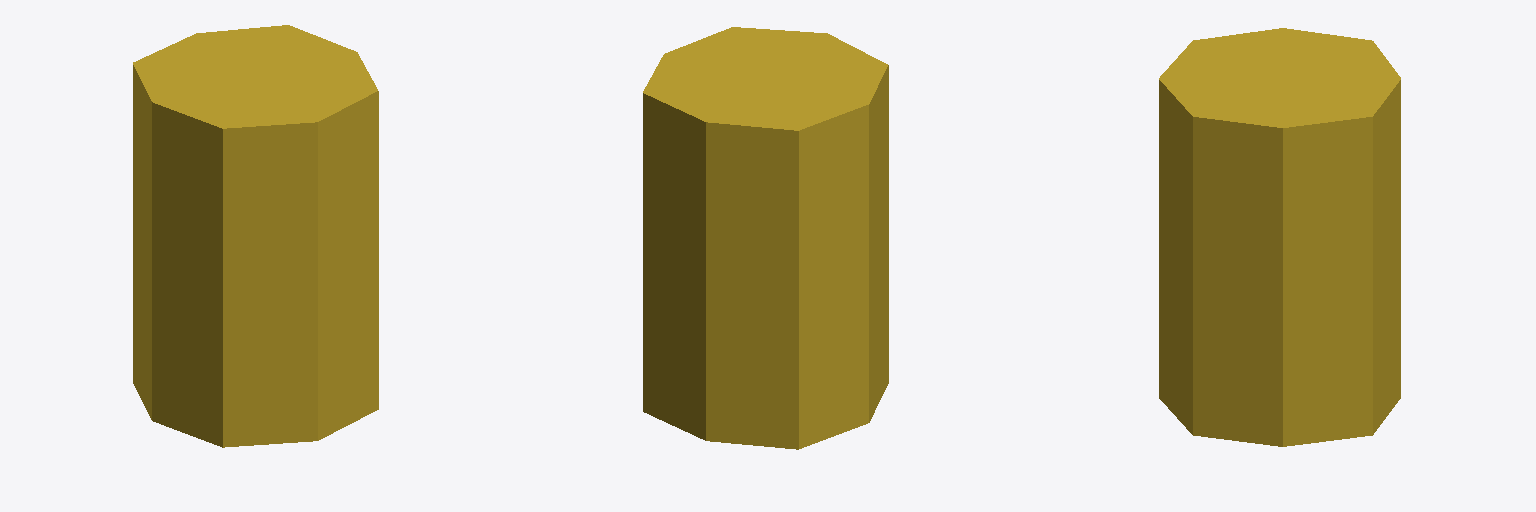
The model's file is candle.obj.
3 renders of one model, left to right at view 1: azimuth 30°, elevation 25°; view 2: azimuth 150°, elevation 25°; view 3: azimuth 270°, elevation 25°, orthographic.
Parts seen in each view (by area): view 1: Cube; view 2: Cube; view 3: Cube.
Boxes of the visible parts, x1,y1,x2,y2 form: Cube: [133, 25, 378, 447]; Cube: [643, 27, 888, 449]; Cube: [1159, 28, 1400, 446].
Bounding box in the file's own units: 0.4848 × 0.8021 × 0.4964.